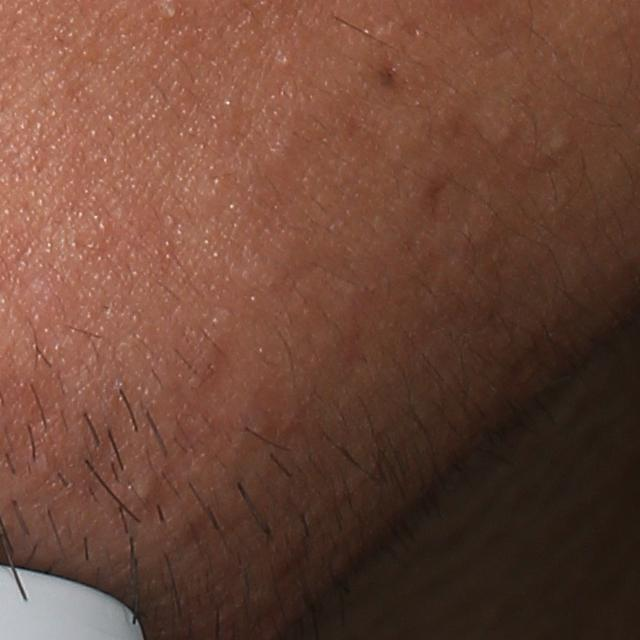comedo: (127, 464, 160, 504), (548, 127, 568, 154), (278, 54, 295, 71)
nevus: (375, 62, 402, 90)
